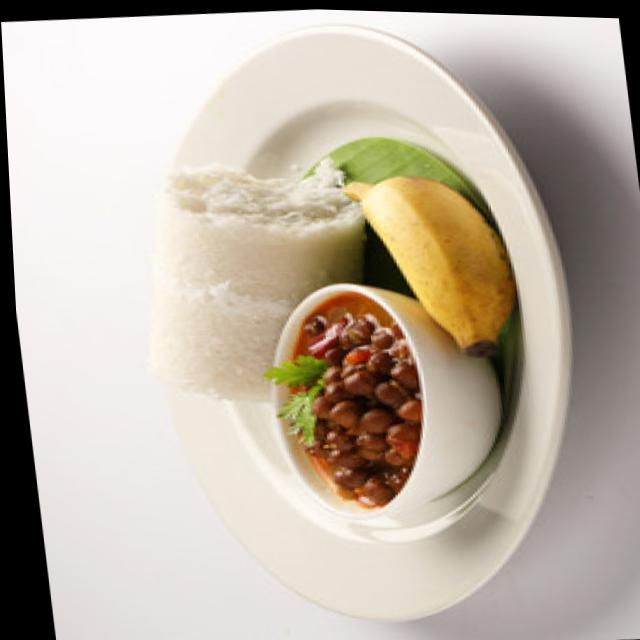BANANA: (336, 174, 514, 358)
CURRY: (282, 293, 424, 508)
PUTTU: (151, 157, 362, 403)
